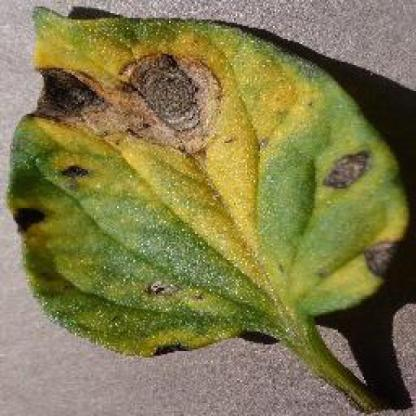Tomato_Blight: (11, 8, 409, 354)
